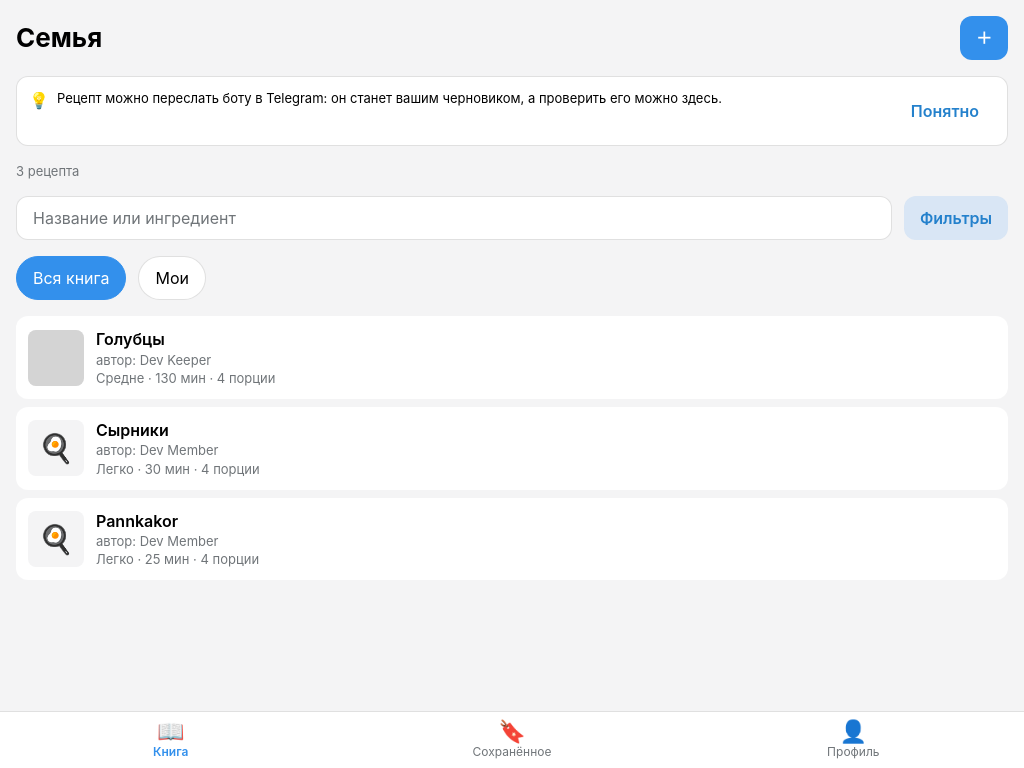
demo: sign-in through Telegram (dev mock) against the API contract › search asks the server once the user stops typing, and shows what it found
The image size is (1024, 768).
Expected: the text "Голубцы" is shown, [96,329,165,349]
Type "ф" into the search field.
click(454, 218); type("ф")  # box [16,196,892,240]
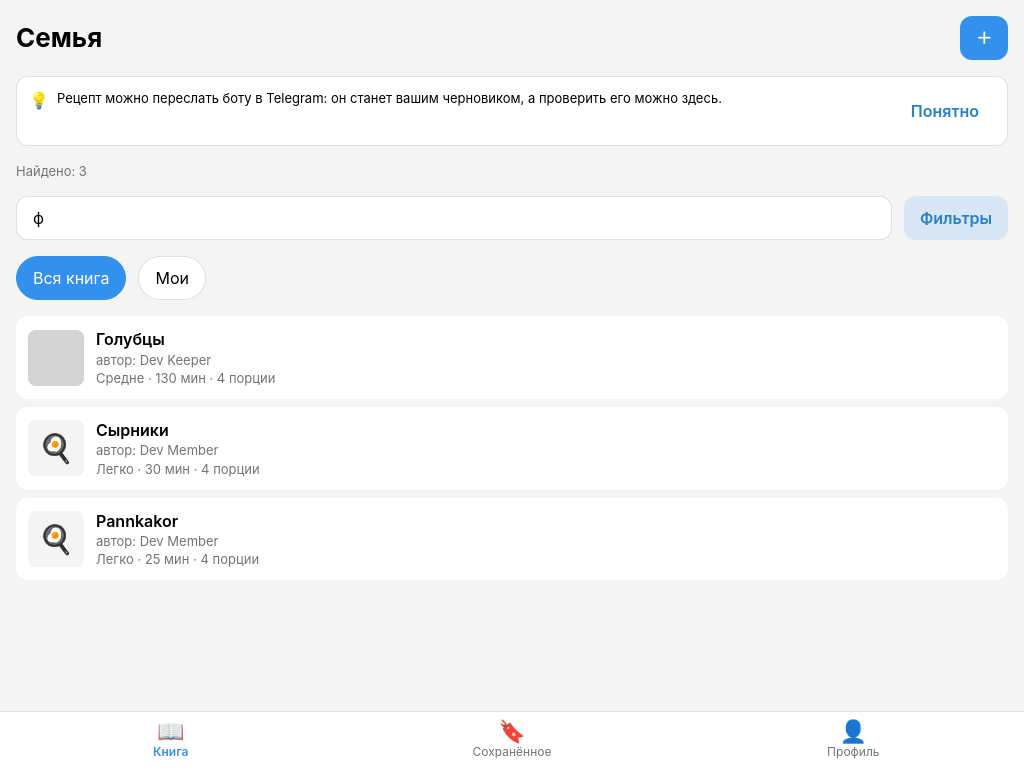
Replace the text in the search field with "фар" at point(454, 218), box [16,196,892,240]
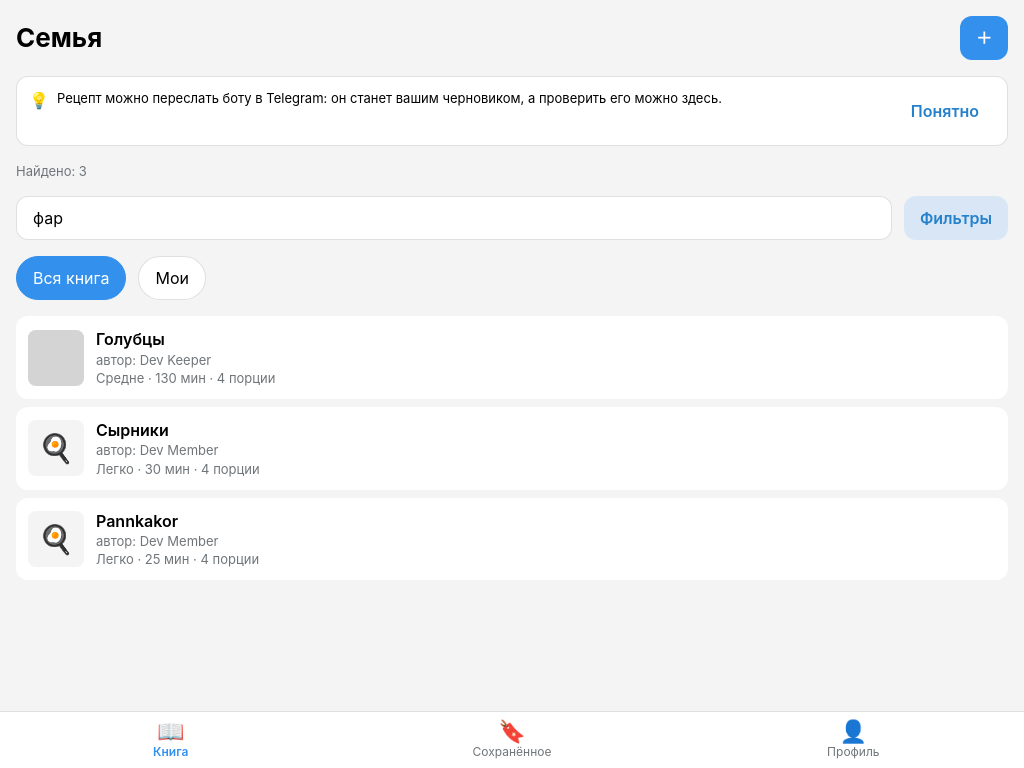
Replace the text in the search field with "фарш" at point(454, 218), box [16,196,892,240]
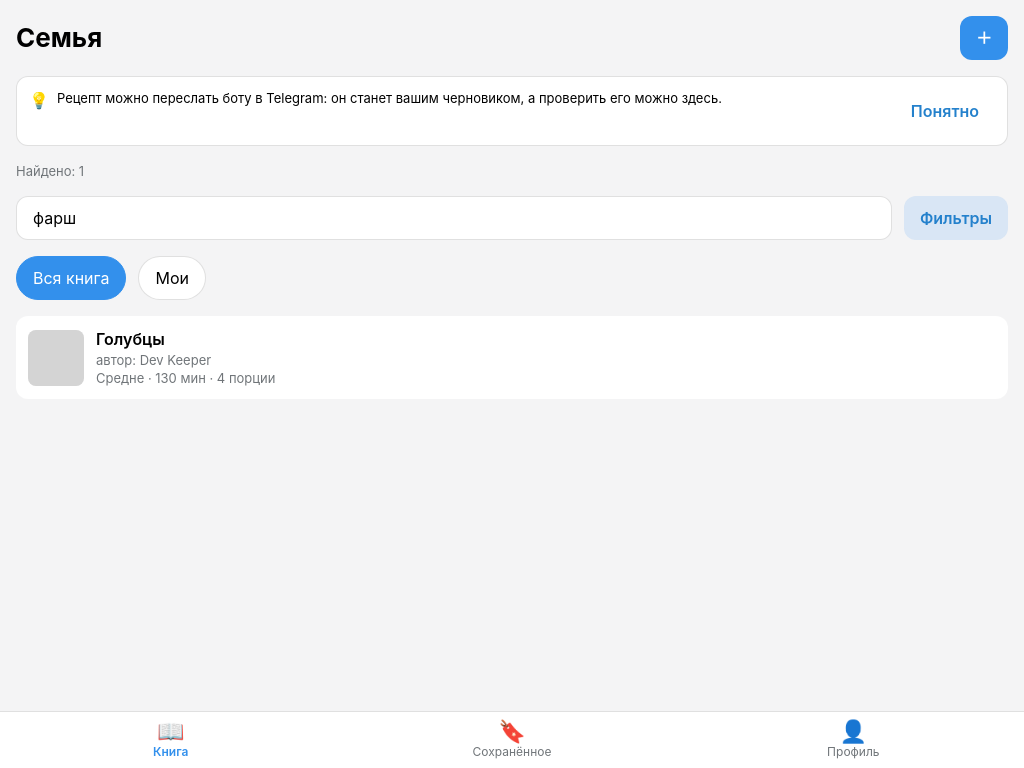
Expected: the text "Голубцы" is shown, [96,329,165,349]
Expected: the link "Сырники" is gone
Expected: the text "Найдено: 1" is shown, [16,163,84,179]
